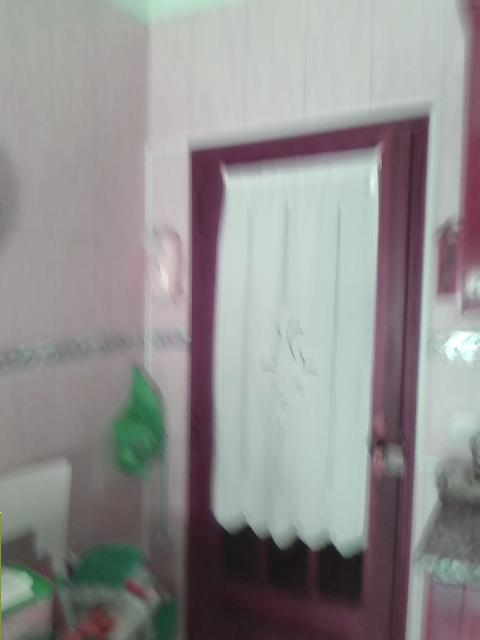closed_door: (183, 114, 428, 639)
